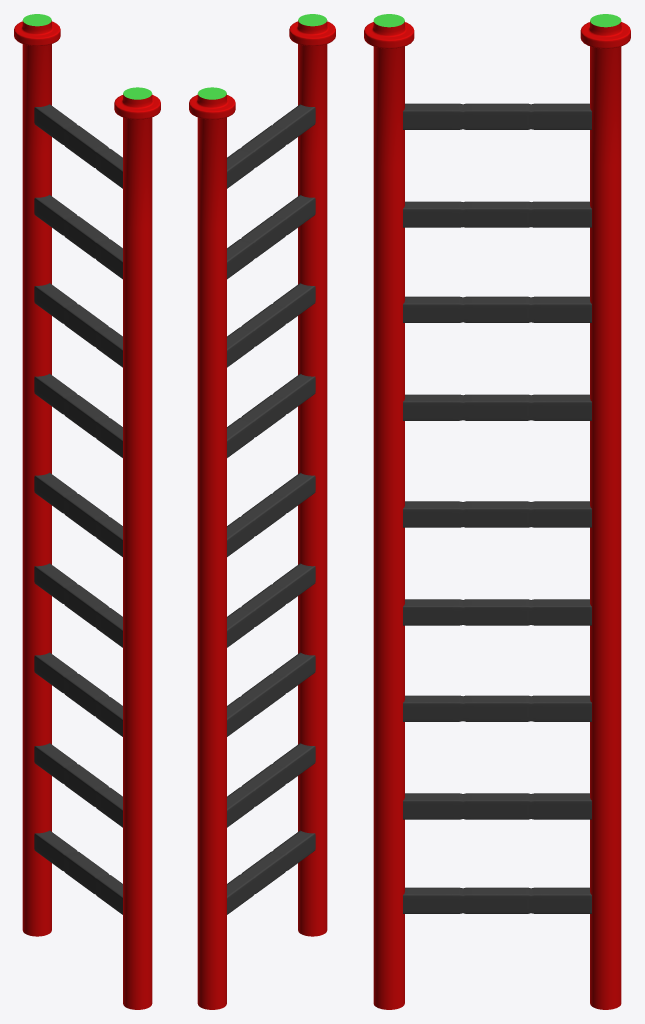
3 renders of one model, left to right at view 1: azimuth 30°, elevation 25°; view 2: azimuth 150°, elevation 25°; view 3: azimuth 270°, elevation 25°, orthographic. The views are drawn at different scales.
Visible parts, largest first — view 1: polySurface352, polySurface358, polySurface355, polySurface354, polySurface362, polySurface361, polySurface360, polySurface356, polySurface357, polySurface359; view 2: polySurface352, polySurface358, polySurface354, polySurface355, polySurface361, polySurface360, polySurface362, polySurface357, polySurface359, polySurface356; view 3: polySurface352, polySurface362, polySurface355, polySurface361, polySurface358, polySurface357, polySurface354, polySurface359, polySurface360, polySurface356.
Part boxes in pixels (bbox=[...]): polySurface352: bbox=[14, 14, 160, 1009]; polySurface358: bbox=[34, 652, 122, 736]; polySurface355: bbox=[34, 195, 122, 279]; polySurface354: bbox=[34, 373, 122, 457]; polySurface362: bbox=[34, 472, 122, 556]; polySurface361: bbox=[34, 563, 122, 647]; polySurface360: bbox=[34, 830, 122, 914]; polySurface356: bbox=[34, 283, 122, 367]; polySurface357: bbox=[34, 743, 122, 827]; polySurface359: bbox=[34, 104, 122, 188]; polySurface352: bbox=[189, 14, 335, 1009]; polySurface358: bbox=[227, 652, 315, 736]; polySurface354: bbox=[227, 373, 315, 457]; polySurface355: bbox=[227, 195, 315, 279]; polySurface361: bbox=[227, 563, 315, 647]; polySurface360: bbox=[227, 830, 315, 914]; polySurface362: bbox=[227, 472, 315, 556]; polySurface357: bbox=[227, 743, 315, 827]; polySurface359: bbox=[227, 104, 315, 188]; polySurface356: bbox=[227, 283, 315, 367]; polySurface352: bbox=[364, 14, 630, 1009]; polySurface362: bbox=[403, 501, 591, 527]; polySurface355: bbox=[403, 201, 591, 227]; polySurface361: bbox=[403, 599, 591, 625]; polySurface358: bbox=[403, 695, 591, 721]; polySurface357: bbox=[403, 793, 591, 819]; polySurface354: bbox=[403, 394, 591, 420]; polySurface359: bbox=[403, 103, 591, 129]; polySurface360: bbox=[403, 887, 591, 913]; polySurface356: bbox=[403, 296, 591, 322].
Size of the model in its own units: 1.27 by 27.34 by 6.73.
